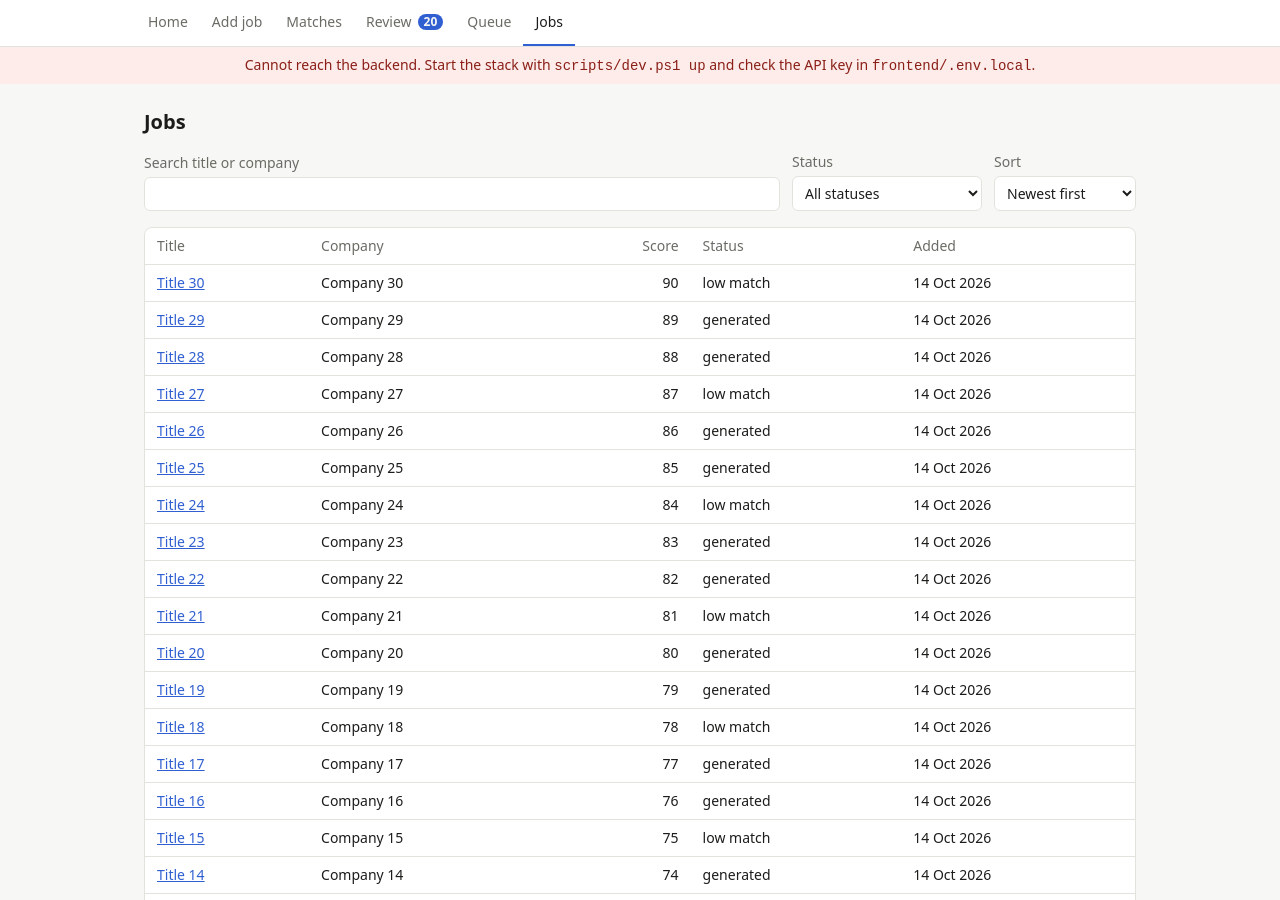
Jobs tab › filters by status and search text
Expected: the link "Title 30" is shown, [157,273,205,292]
Select "low match" in the dropdown labelled "Status". click: (887, 194)
box: [792,176,982,211]
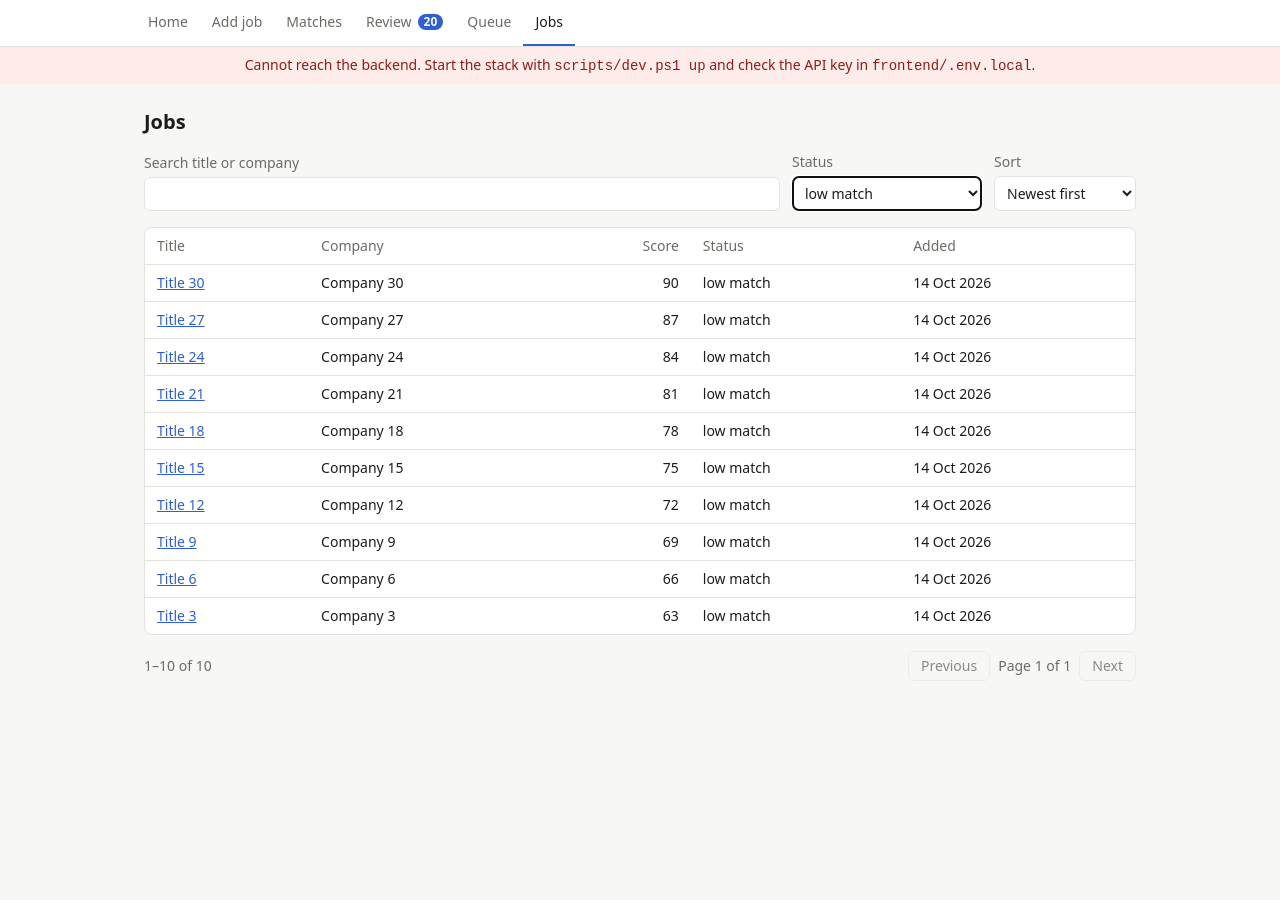
Expected: the text "1–10 of 10" is shown, [144,656,212,676]
Type "nothing" into the search field labelled "Search title or company". click: (462, 194)
box: [144,177,780,211]
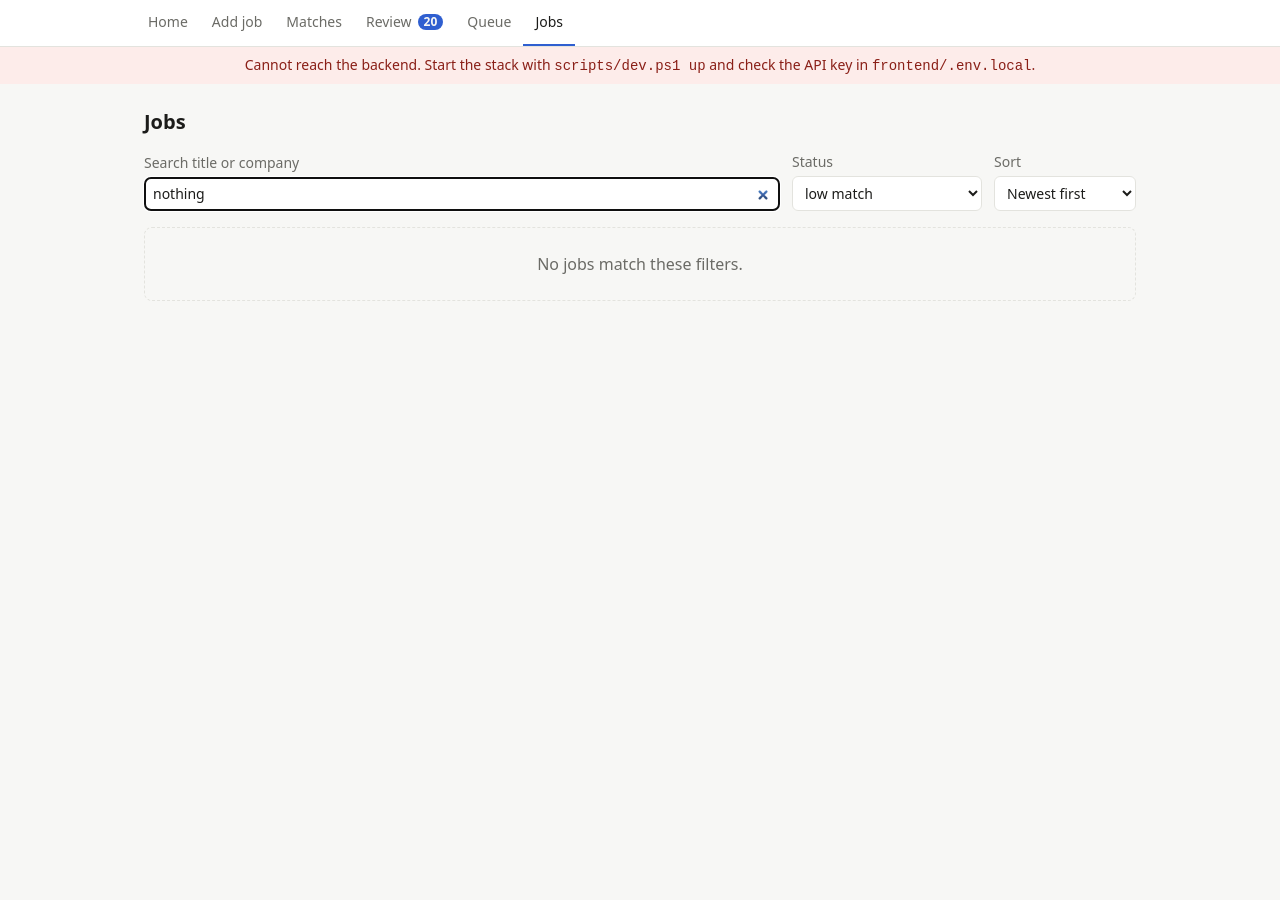
Expected: the text "No jobs match these filters." is shown, [144,227,1136,301]
